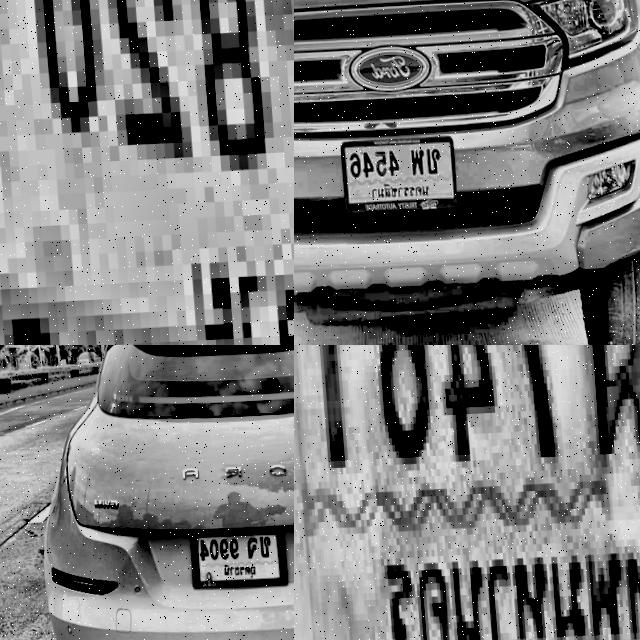license-plate: (294, 345, 640, 640), (0, 0, 294, 345), (331, 136, 452, 219), (182, 528, 279, 590)
